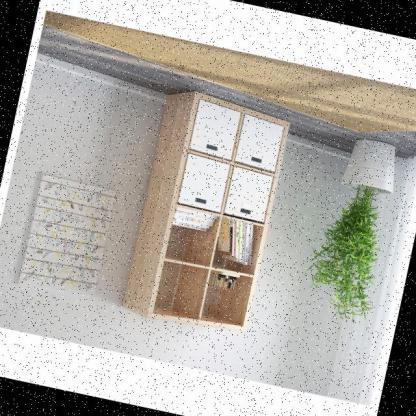Shelf: (115, 81, 293, 334)
